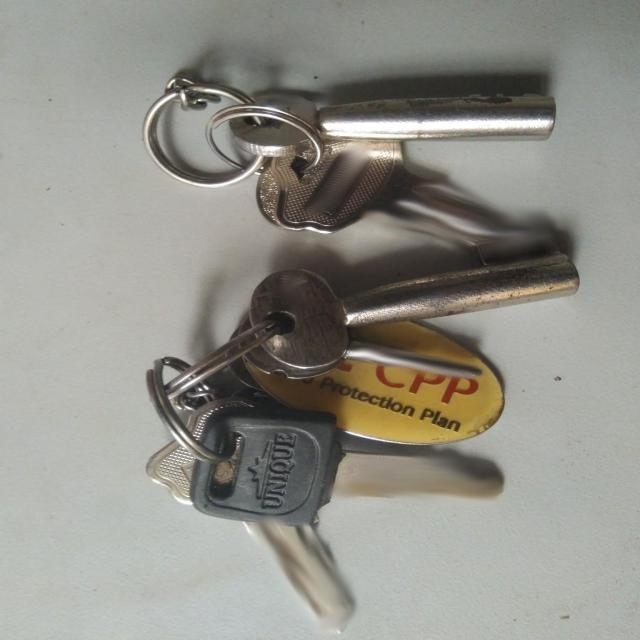Frontdoor keys: (228, 82, 563, 260), (236, 215, 590, 371), (144, 399, 358, 626)
